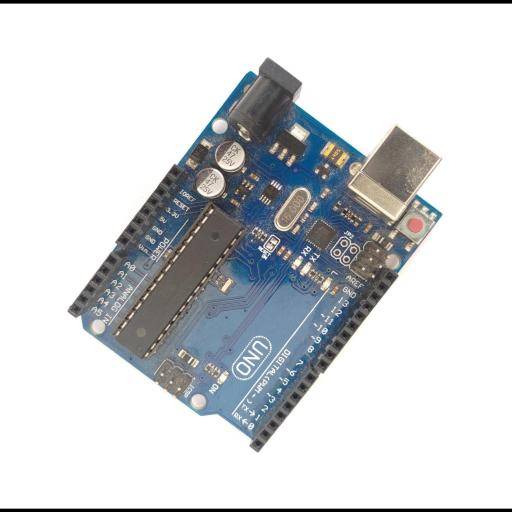Arduino Uno R3: (66, 57, 444, 453)
